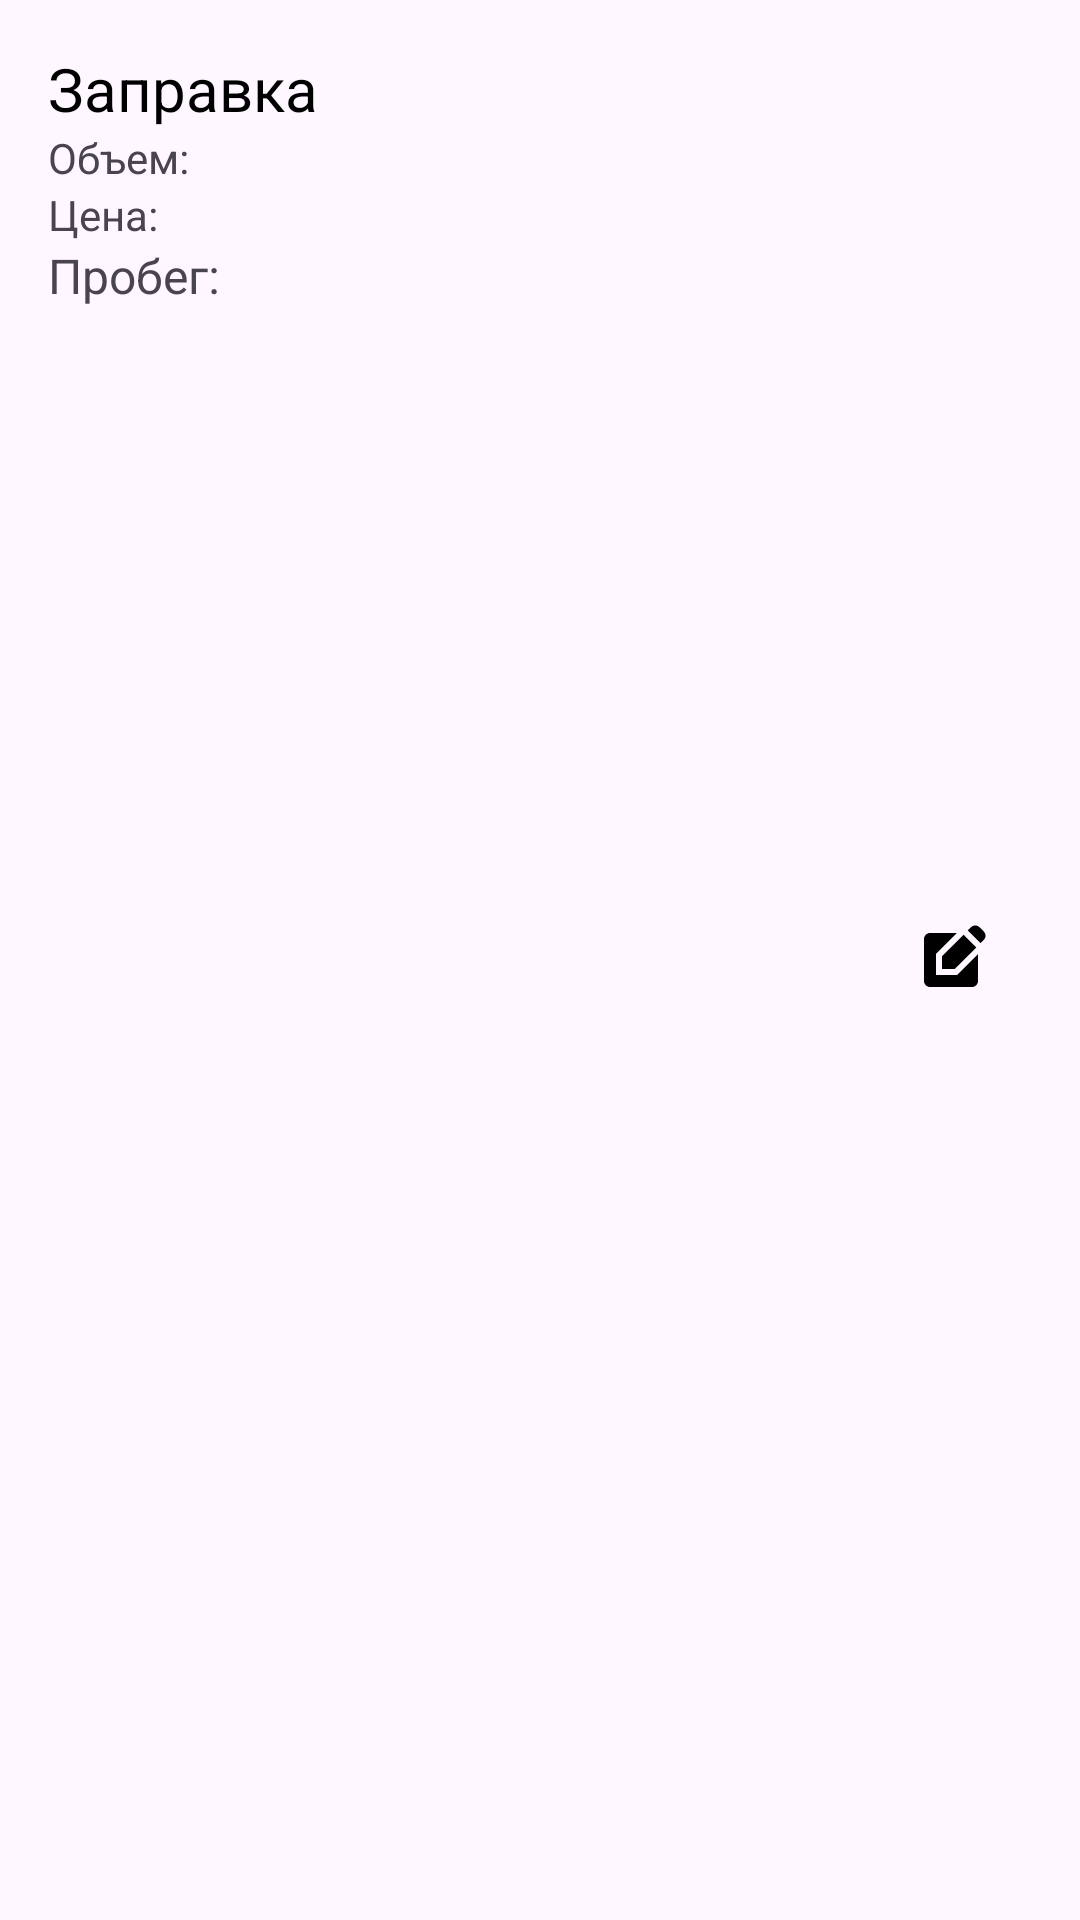

Icon bounding boxes for this 1080×1920 phone screenshot, format (x1, y1, x2, y2):
Редактировать: (924, 925, 986, 987)
